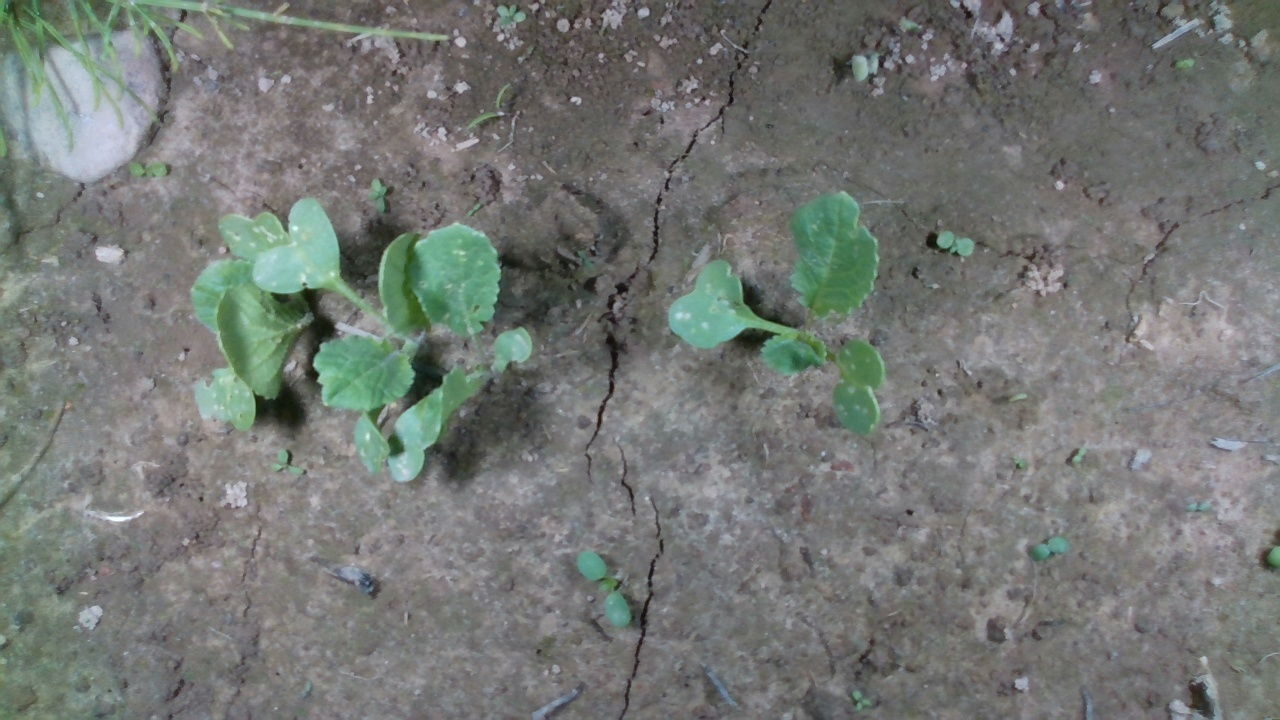weed: (574, 549, 632, 628), (464, 80, 511, 131), (266, 447, 307, 478), (933, 228, 974, 258), (1028, 534, 1071, 561), (364, 177, 388, 215), (495, 2, 527, 28), (126, 160, 169, 178), (1069, 443, 1088, 467)
